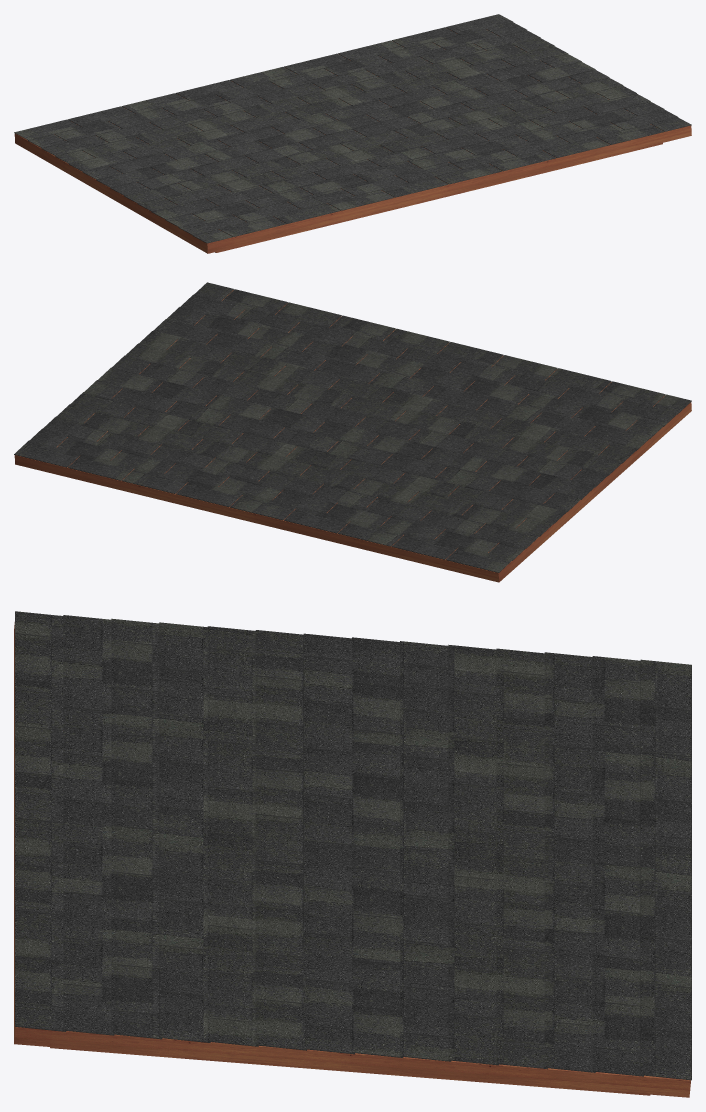
File: Urban Studio.obj
The picture shows the model from 3 angles, top to bottom: view 1: azimuth 30°, elevation 25°; view 2: azimuth 150°, elevation 25°; view 3: azimuth 270°, elevation 25°; orthographic projection. The views are drawn at different scales.
Visible parts, largest first — view 1: shingles, roof, trim; view 2: shingles, roof; view 3: shingles, roof, trim.
Boxes of the visible parts, x1,y1,x2,y2 form: shingles: (14,14,691,243); roof: (14,30,691,253); trim: (215,143,662,252); shingles: (14,282,691,572); roof: (14,290,691,582); shingles: (15,611,691,1080); roof: (14,622,690,1097); trim: (50,1047,650,1095).
Bounding box in the file's own units: 156 × 15.14 × 108.
Materials: 2 (2 with a texture image).
